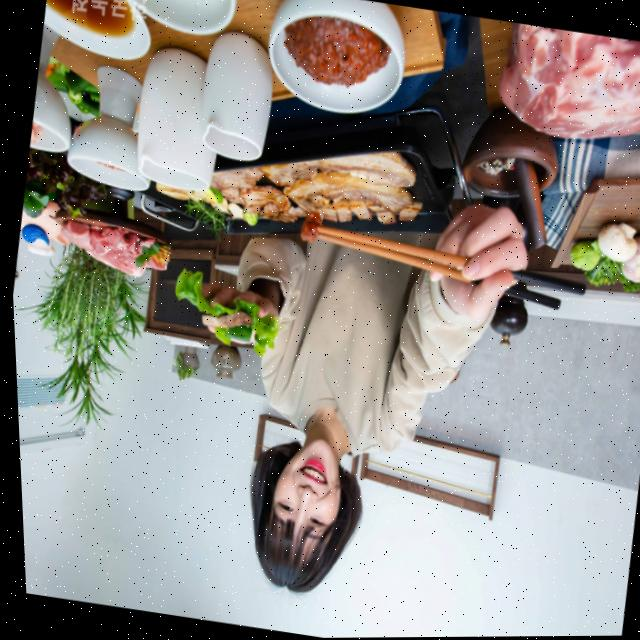eating-person: (78, 91, 626, 640)
